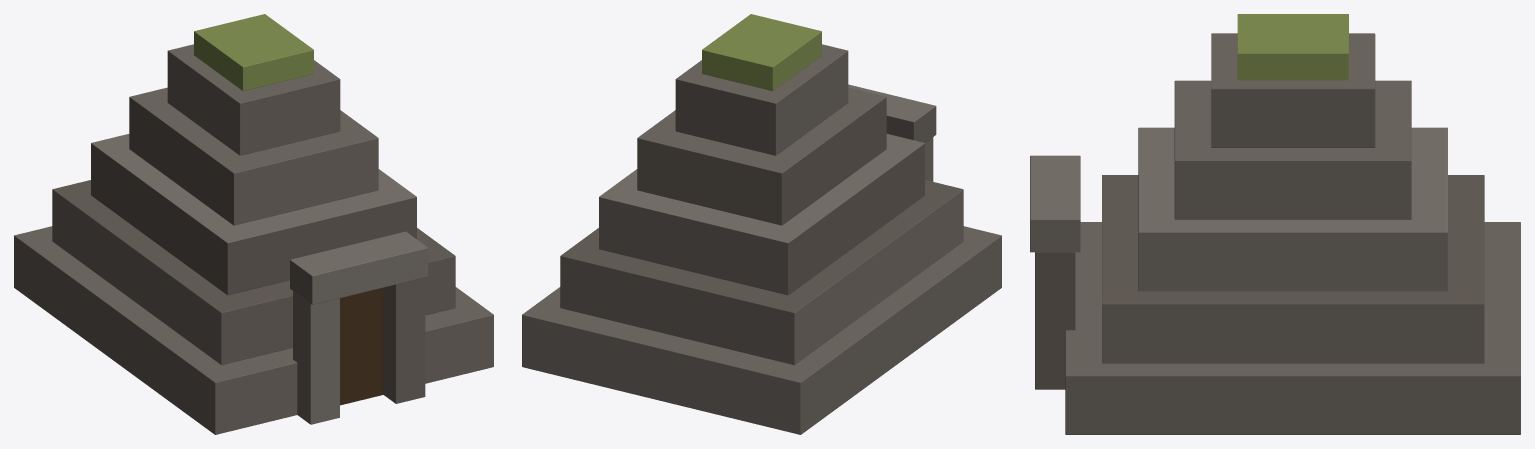
The model's file is House_Neo_c.fbx.
The picture shows the model from 3 angles, left to right: view 1: azimuth 30°, elevation 25°; view 2: azimuth 150°, elevation 25°; view 3: azimuth 270°, elevation 25°; orthographic projection. The views are drawn at different scales.
Parts seen in each view (by area): view 1: House_Neo_c; view 2: House_Neo_c; view 3: House_Neo_c.
Part boxes in pixels (box(x1,y1,x2,y2)): House_Neo_c: box(14, 14, 493, 434); House_Neo_c: box(522, 14, 1001, 434); House_Neo_c: box(1030, 14, 1520, 434).
Size of what is drawn, in the model's own units: 3.6 by 3.54 by 4.85.
